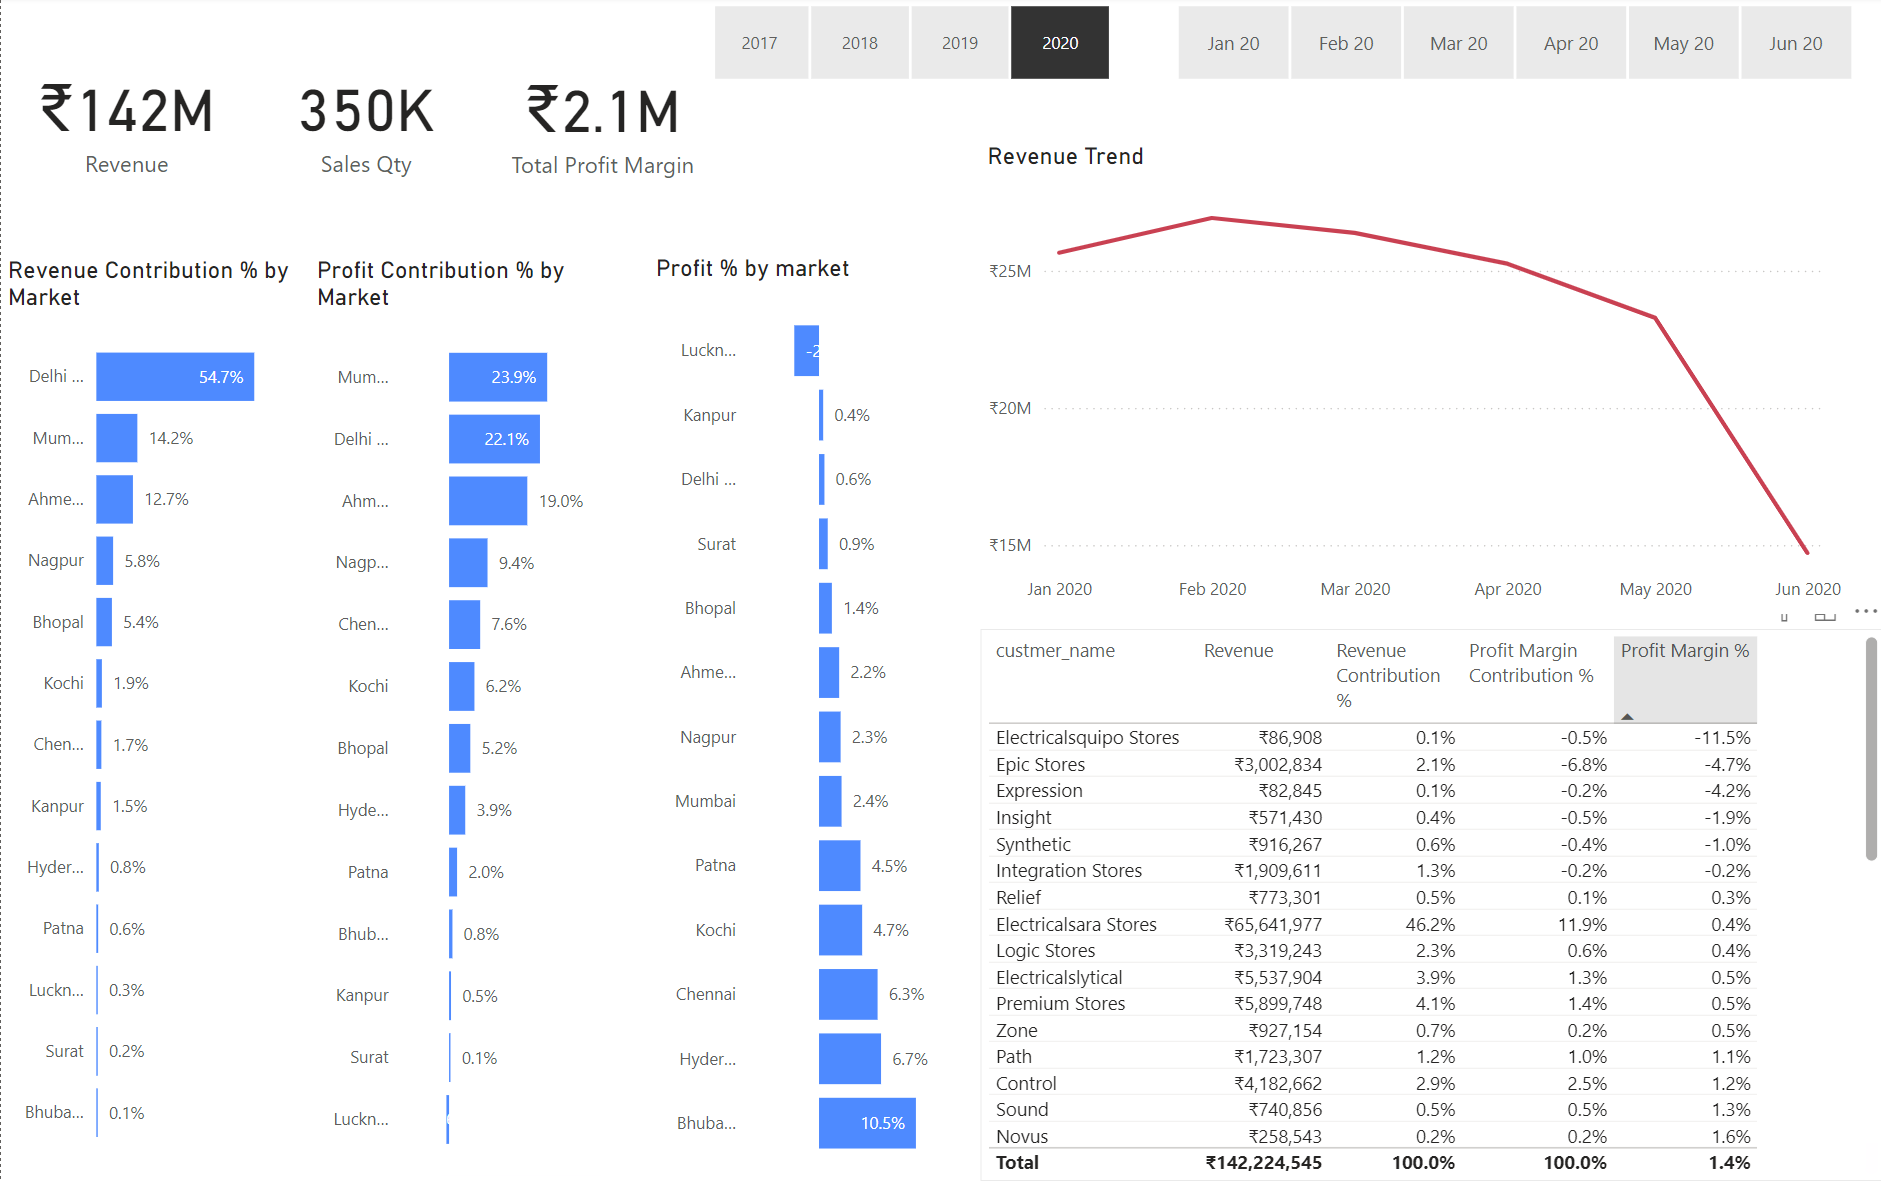

The page's visual inventory and layout, read from the dashboard file:
{"tool":"powerbi","page":{"name":"Profit Analysis","canvas":[1350,850],"ordinal":1},"visuals":[{"type":"card","fields":{"Values":["BaseMeasures (2).Revenue"]},"box":[0,0,179.6,176],"z":0},{"type":"card","fields":{"Values":["BaseMeasures (2).Sales Qty"]},"box":[179.6,0,163.8,176],"z":1000},{"type":"barChart","title":"Profit % by market","fields":{"Y":["BaseMeasures (2).Profit Margin %"],"Category":["sales markets.markets_name"]},"box":[464.5,184.8,230.2,664.8],"z":2000},{"type":"barChart","title":"Profit Contribution % by Market","fields":{"Y":["BaseMeasures (2).Profit Margin Contribution %"],"Category":["sales markets.markets_name"]},"box":[221.9,185.8,208.5,659.6],"z":3000},{"type":"slicer","fields":{"Values":["sales date.year"]},"box":[483.2,0,335.5,66.5],"z":4000},{"type":"slicer","fields":{"Values":["sales date.cy_date"]},"box":[818.6,0,531.7,66.5],"z":5000},{"type":"tableEx","title":"Top 5 Customers","fields":{"Values":["sales customers.custmer_name","BaseMeasures (2).Revenue","BaseMeasures (2).Revenue Contribution %","BaseMeasures (2).Profit Margin Contribution %","BaseMeasures (2).Profit Margin %"]},"box":[701.9,454.2,648.3,395.4],"z":6000},{"type":"lineChart","title":"Revenue Trend","fields":{"Y":["BaseMeasures (2).Revenue"],"Category":["sales date.cy_date"]},"box":[701.9,104.3,621.4,338.6],"z":7000},{"type":"card","fields":{"Values":["BaseMeasures (2).Total Profit Margin"]},"box":[349.9,0,161,176.5],"z":8000},{"type":"barChart","title":"Revenue Contribution % by Market","fields":{"Y":["BaseMeasures (2).Revenue Contribution %"],"Category":["sales markets.markets_name"]},"box":[0,185.8,219.9,654.5],"z":9000}]}

Visuals, with their boxes in screenshot pixels (x1, y1, x2, y2), scaled from the page's 1350x850 canvas onto the 1881x1181 screenshot:
card - BaseMeasures (2).Revenue: bbox(0, 0, 250, 245)
card - BaseMeasures (2).Sales Qty: bbox(250, 0, 478, 245)
"Profit % by market" barChart: bbox(647, 257, 968, 1180)
"Profit Contribution % by Market" barChart: bbox(309, 258, 600, 1175)
slicer - sales date.year: bbox(673, 0, 1141, 92)
slicer - sales date.cy_date: bbox(1141, 0, 1880, 92)
"Top 5 Customers" tableEx: bbox(978, 631, 1880, 1180)
"Revenue Trend" lineChart: bbox(978, 145, 1844, 615)
card - BaseMeasures (2).Total Profit Margin: bbox(488, 0, 712, 245)
"Revenue Contribution % by Market" barChart: bbox(0, 258, 306, 1168)
